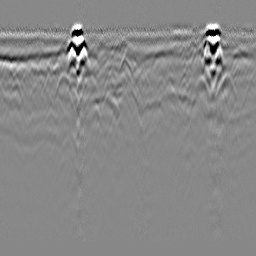cavity: (117, 41, 137, 72)
